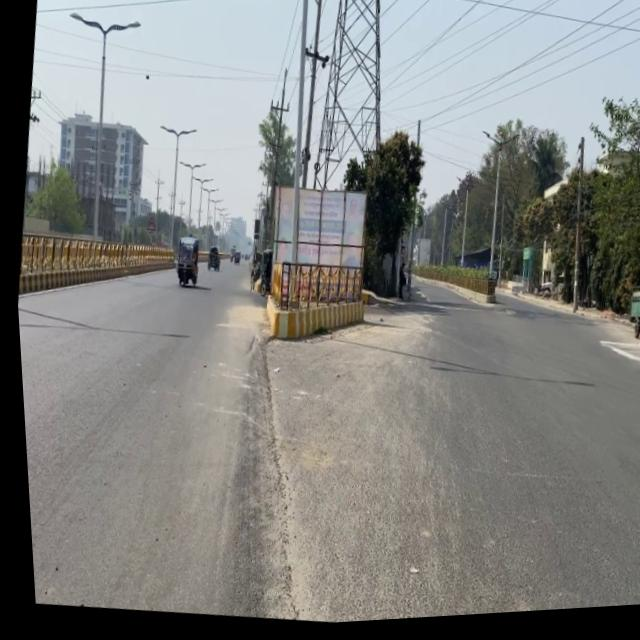Construction-barrier: (204, 319, 326, 625), (256, 288, 362, 352), (405, 274, 491, 314), (355, 290, 391, 313)
Fallen-tree: (202, 254, 218, 273), (228, 253, 237, 267)
Garbage-bin: (391, 266, 404, 304)
Light-pole: (554, 142, 593, 320)
Traffic-cone: (166, 234, 199, 291)
